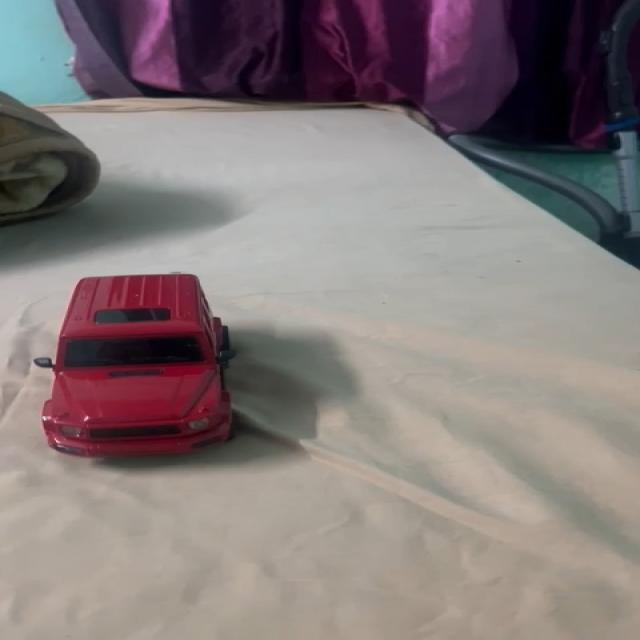light_vehicle: (37, 272, 240, 450)
